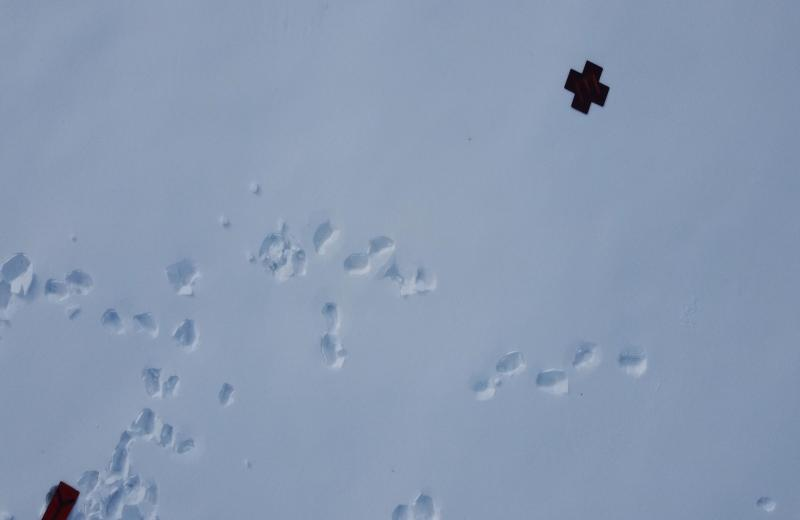Cross: (562, 62, 608, 116)
Rectangle: (42, 477, 83, 520)
